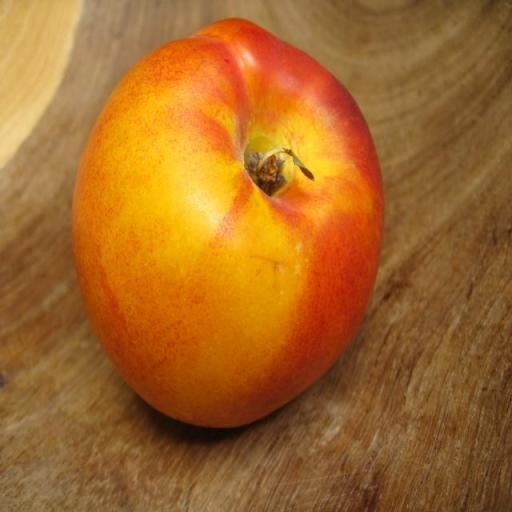fruit: (73, 20, 383, 426)
